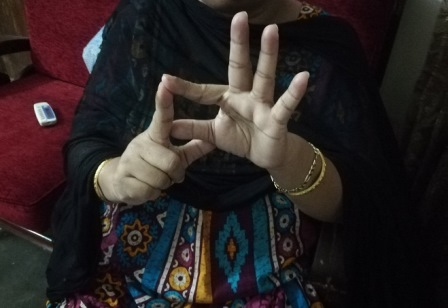k: (152, 10, 307, 184)
